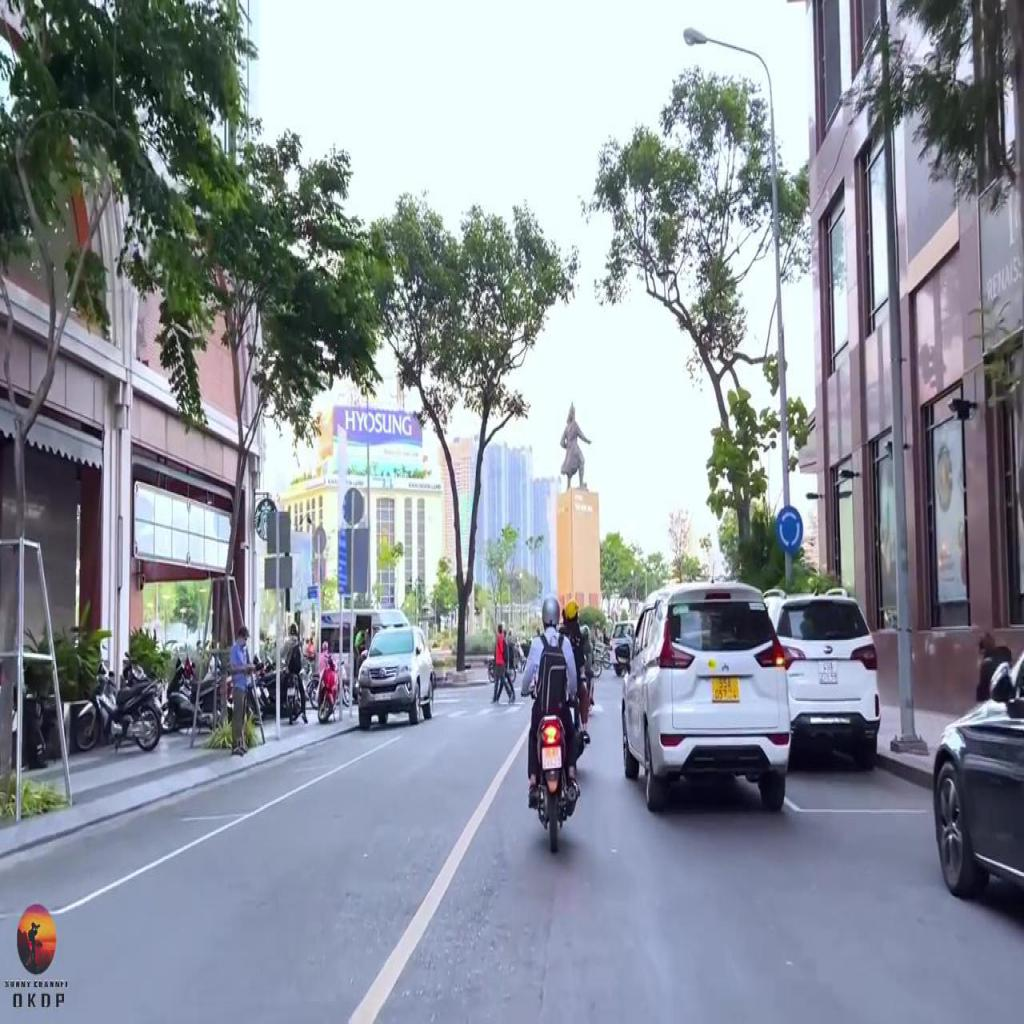noi_giao_nhau_chay_theo_vong: (774, 502, 804, 553)
